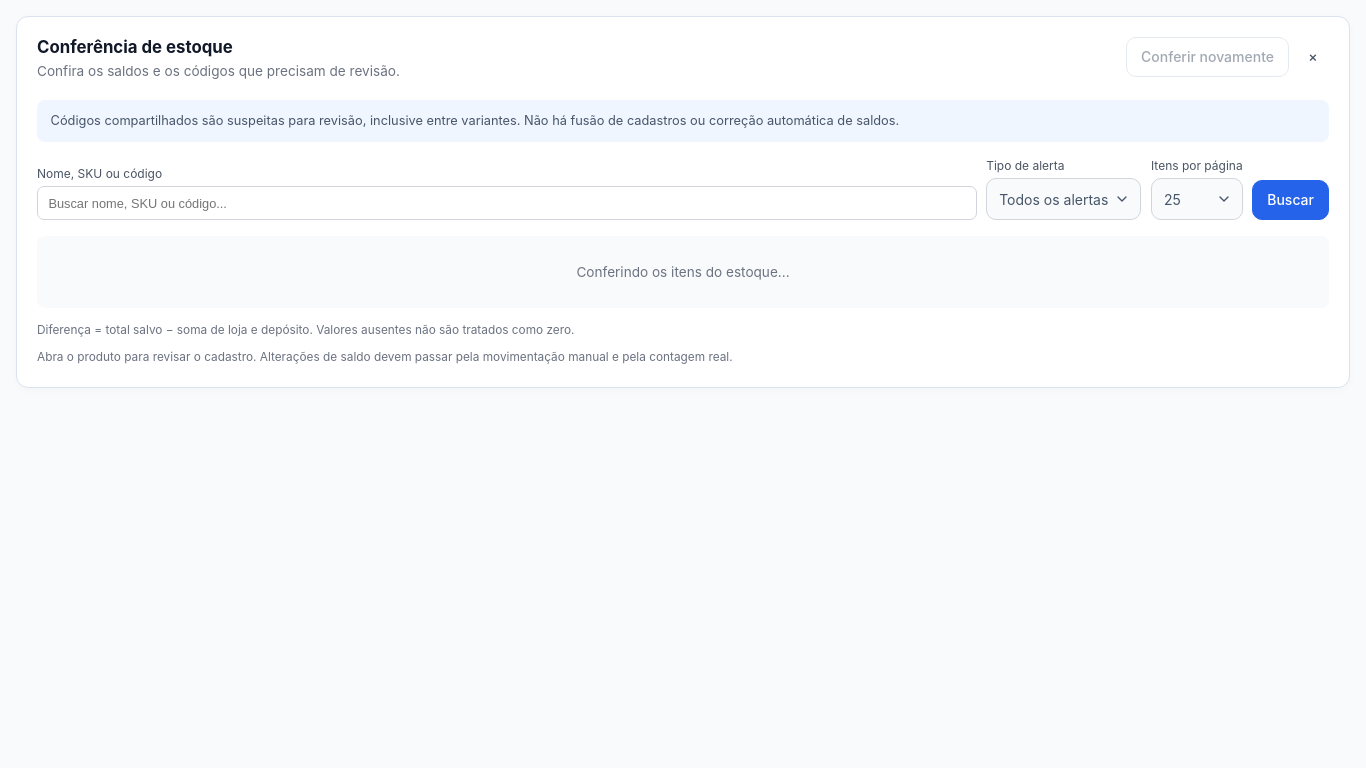
Test: Inventory diagnostics › cancels an old request and ignores its late result after filters change
Click the button "Todos os alertas": (1064, 199) [987,179,1140,219]
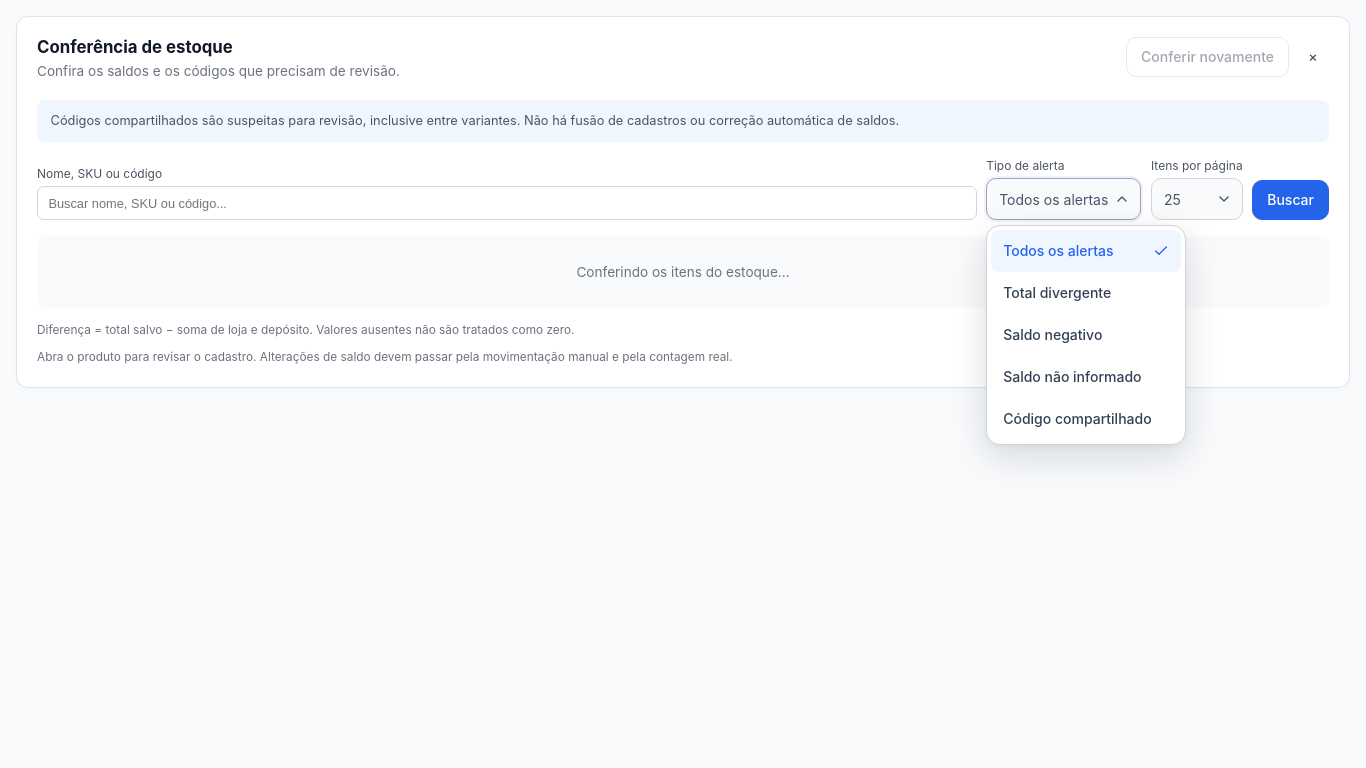
Click the option "Saldo negativo": (1086, 335) [991,314,1181,356]
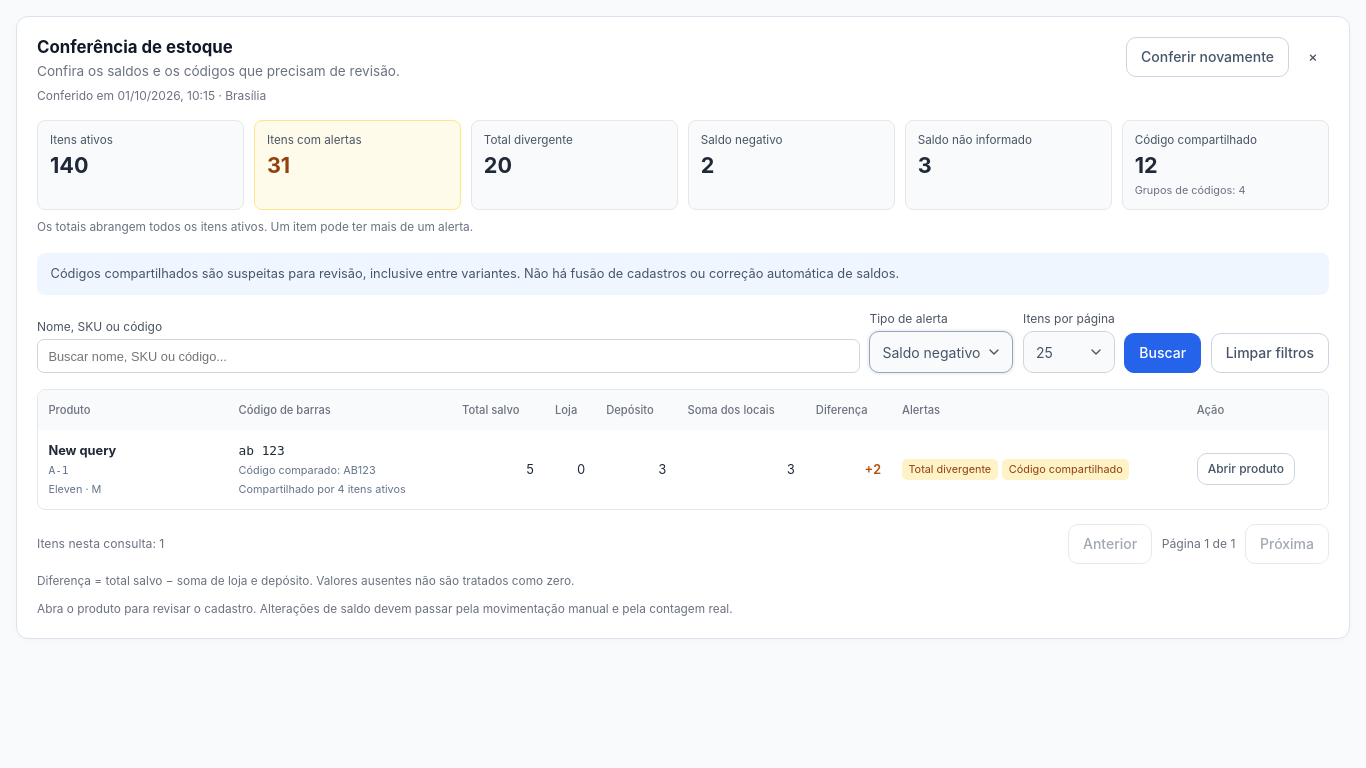
Now the table is shown, box [38,430,1328,509]
Now the text "New query" is shown, box [48,443,116,458]
